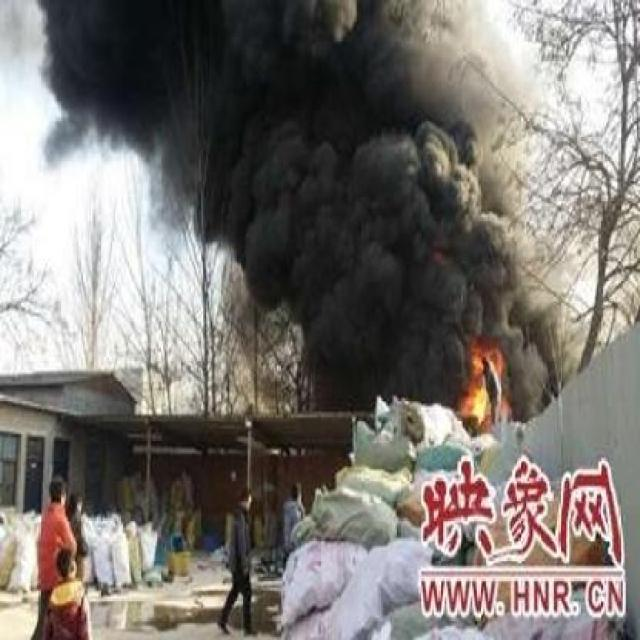Fire: (458, 330, 512, 436)
Smoke: (41, 2, 457, 408), (460, 169, 543, 341)
